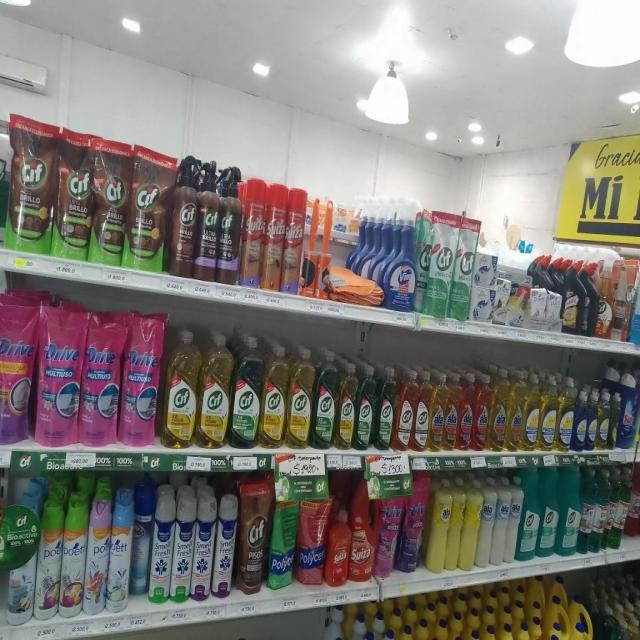ala_conc_amarillo: (490, 368, 507, 451), (507, 368, 523, 452), (430, 372, 444, 452), (444, 372, 458, 451)
ala_conc_rojo: (474, 372, 489, 452), (459, 373, 473, 451)
ala_crem_amarillo: (463, 477, 479, 571)
ala_crem_blanco: (521, 474, 539, 562), (479, 476, 494, 568), (494, 476, 508, 566), (508, 476, 521, 563)
cif_conc_bot_amarilla: (164, 328, 198, 449), (199, 331, 230, 448), (262, 342, 287, 448), (288, 346, 312, 448), (337, 361, 356, 450)
cif_conc_botella_roja: (396, 368, 415, 452), (415, 370, 429, 451)
cif_conc_botella_verde: (231, 334, 261, 448), (313, 350, 336, 449), (357, 364, 376, 450), (377, 366, 395, 450)
drive: (36, 299, 80, 448), (81, 309, 120, 447), (0, 289, 33, 446)
magistral_con_amarillo: (540, 372, 556, 451), (524, 371, 539, 451), (557, 376, 573, 451), (598, 389, 610, 450)
magistral_con_azul: (573, 388, 587, 451), (587, 389, 597, 451)
